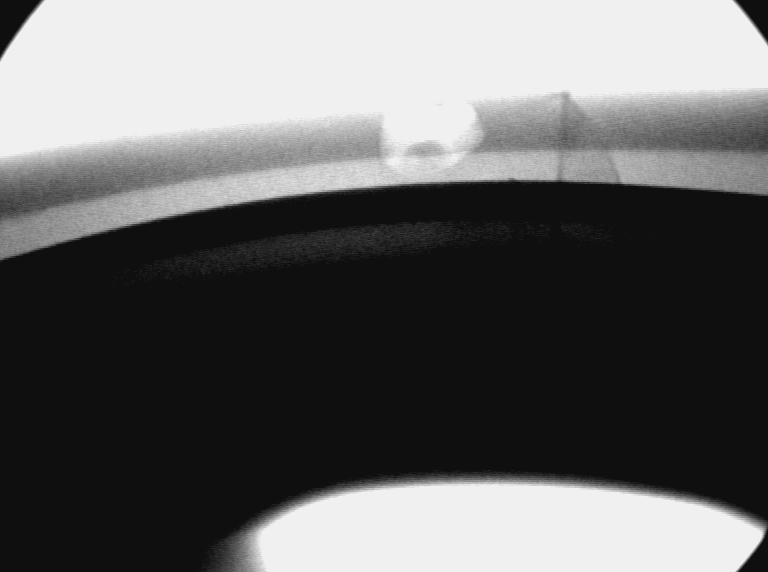defect: (379, 98, 484, 173)
